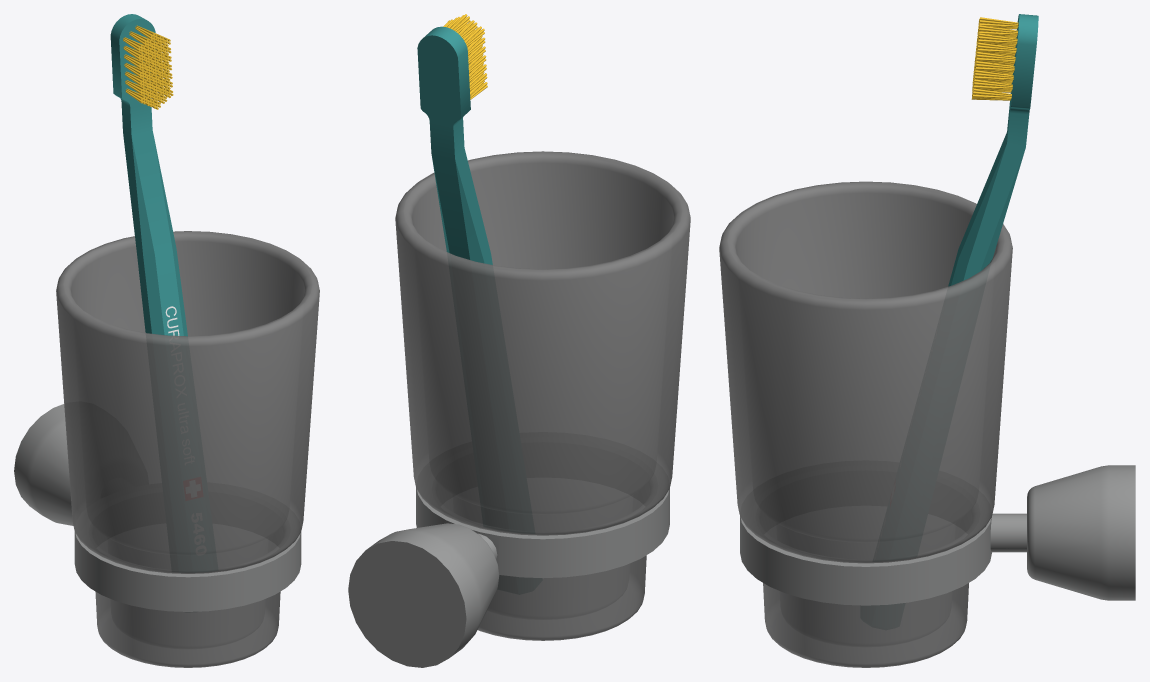
3 renders of one model, left to right at view 1: azimuth 30°, elevation 25°; view 2: azimuth 150°, elevation 25°; view 3: azimuth 270°, elevation 25°, orthographic. The views are drawn at different scales.
Parts seen in each view (by area): view 1: skle_na_kart (×4), skle_na_kart_drza (×2), zubní_kartáček_maxwell; view 2: skle_na_kart (×4), skle_na_kart_drza (×2), zubní_kartáček_maxwell; view 3: skle_na_kart (×4), skle_na_kart_drza (×2), zubní_kartáček_maxwell.
Part boxes in pixels (x1,y1,x2,y2): skle_na_kart (×4): (56,231,319,667); skle_na_kart_drza (×2): (14,404,301,611); zubní_kartáček_maxwell: (110,14,187,336); skle_na_kart (×4): (395,151,690,640); skle_na_kart_drza (×2): (348,487,669,667); zubní_kartáček_maxwell: (417,26,492,264); skle_na_kart (×4): (719,181,1012,667); skle_na_kart_drza (×2): (740,465,1135,605); zubní_kartáček_maxwell: (948,14,1038,286).
Size of the model in its own units: 2.98 by 4.23 by 6.95.
